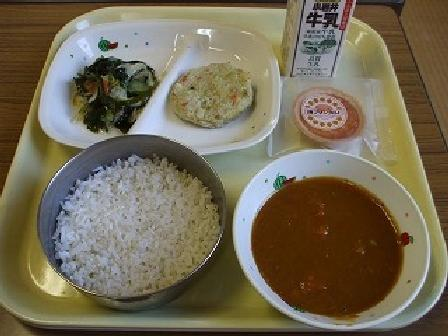Cup desserts: (283, 82, 400, 158)
Curry: (240, 152, 422, 317)
Milk: (277, 0, 354, 80)
Rice: (43, 131, 218, 305)
Salad: (158, 60, 260, 140), (63, 49, 156, 130)
